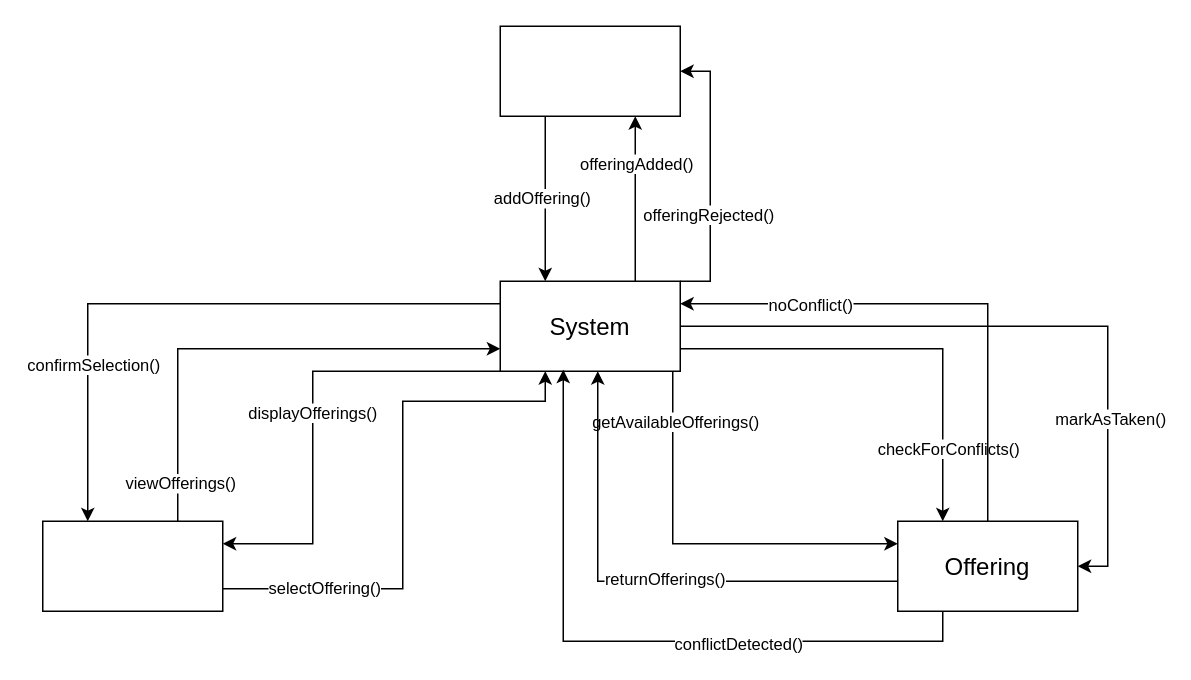
Some shapes in this 1191 by 680 pixel diagram are drawn without their labels. Each missing label, with the centre of its shape:
"Administrator" goes at [589,70].
"Instructor" goes at [132,565].
